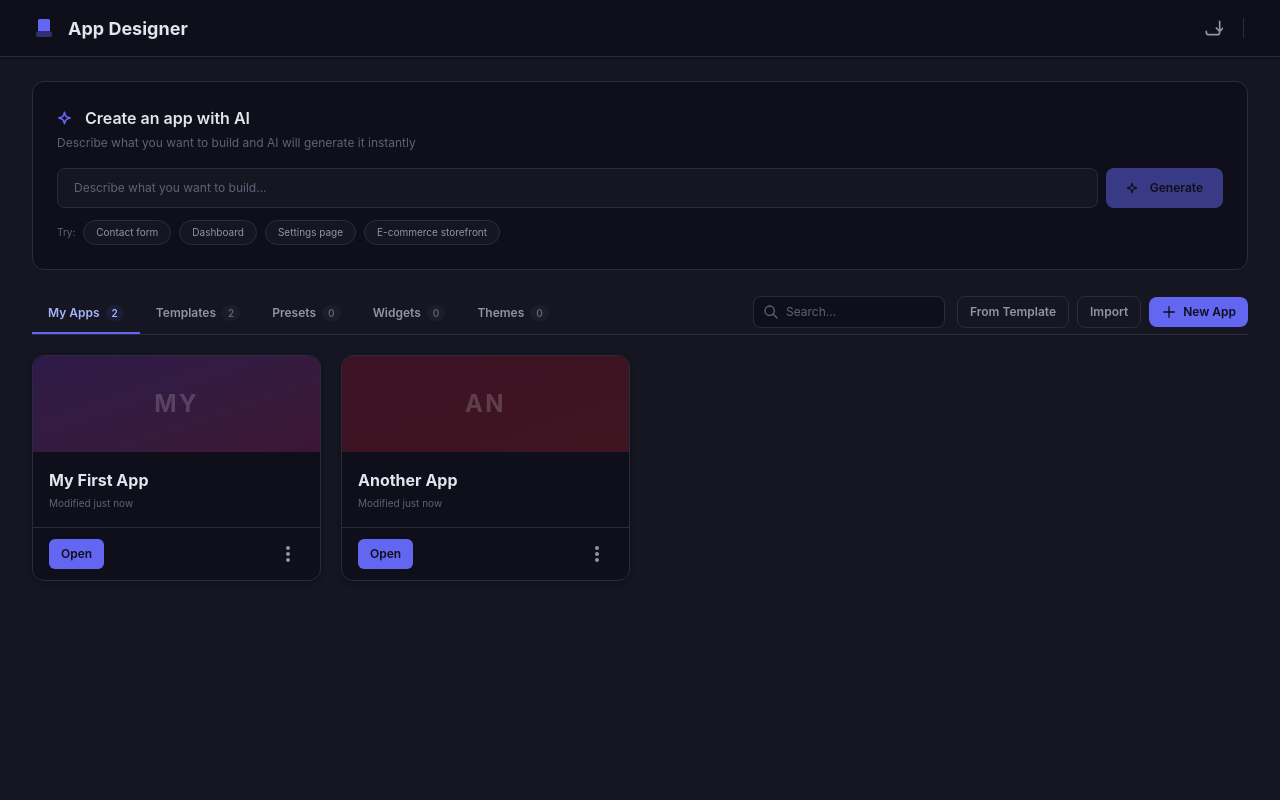
Test: Dashboard › should render apps and templates on load
Expected: the heading "My First App" is shown, x1=49 y1=470 x2=148 y2=490
Expected: the heading "Another App" is shown, x1=358 y1=470 x2=458 y2=490
Templates are on a separate tab
Click the button "Templates2" at (198, 314), box x1=140 y1=294 x2=256 y2=334
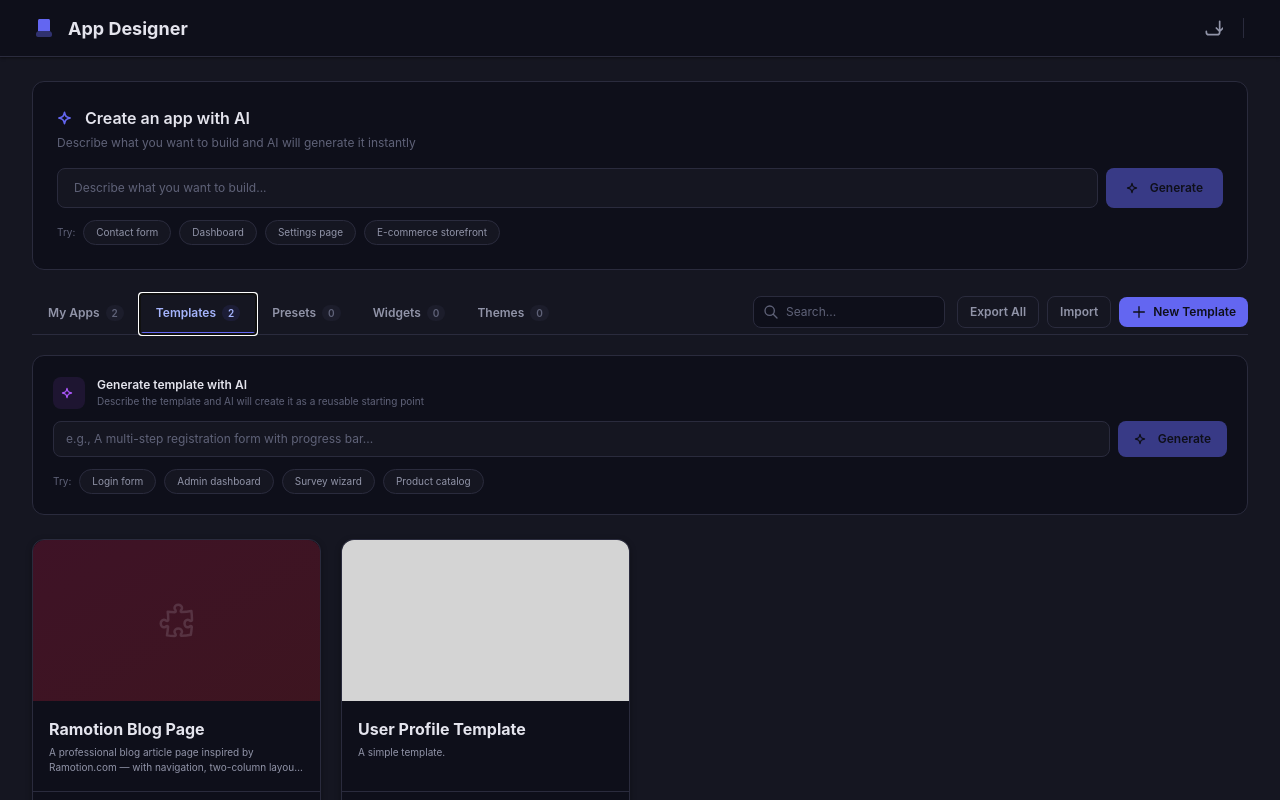
Expected: the heading "User Profile Template" is shown, x1=358 y1=719 x2=526 y2=739
